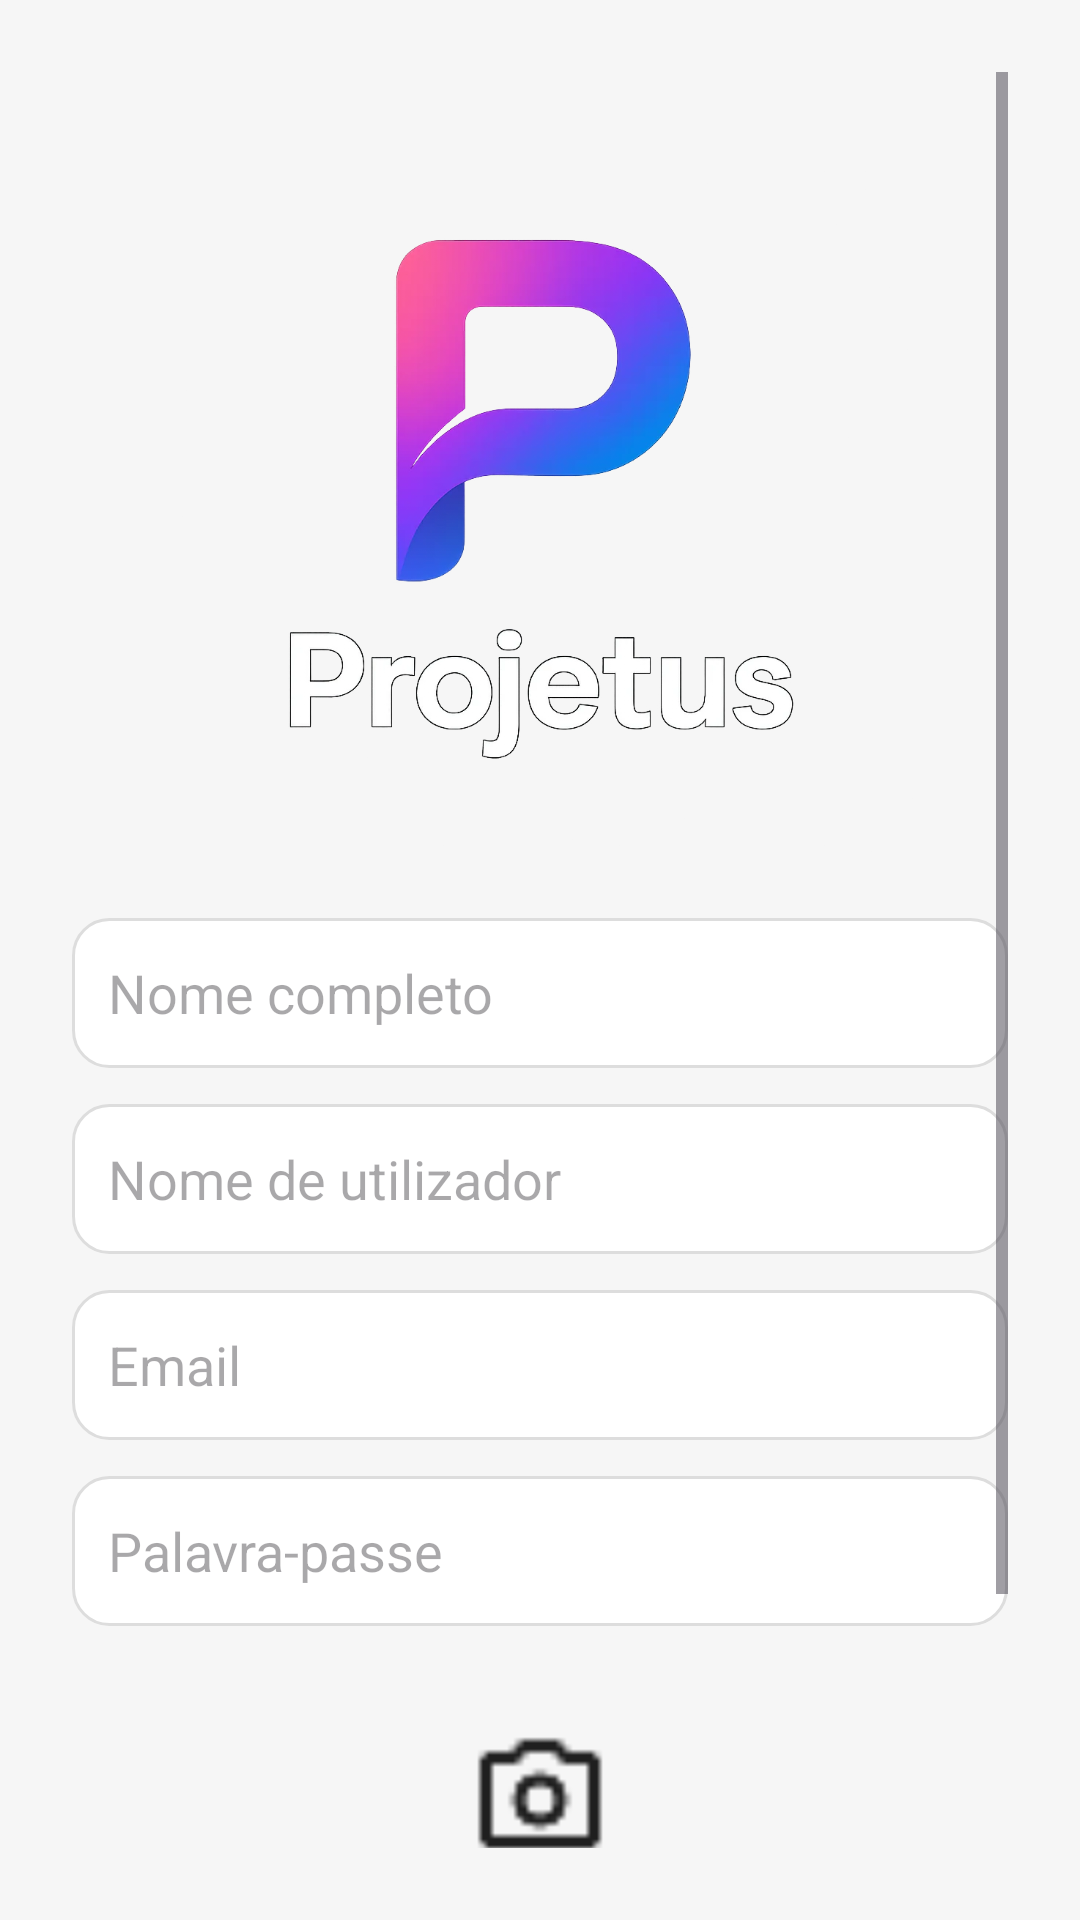

Icons on this 1080x1920 Android screen, each with the point to tap as (x,y):
Adicionar foto: (540,1793)
